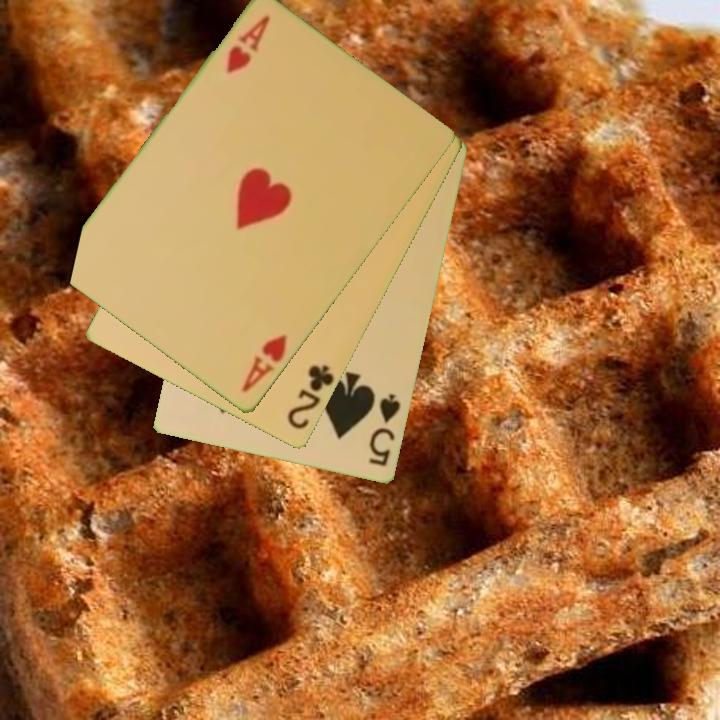2c: (283, 361, 337, 433)
5s: (365, 390, 404, 470)
Ah: (238, 331, 290, 396), (223, 12, 273, 78)
